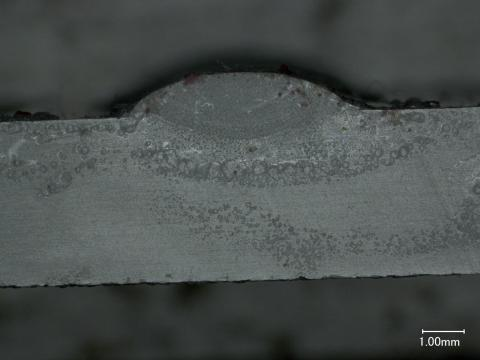test: (128, 72, 372, 117)
